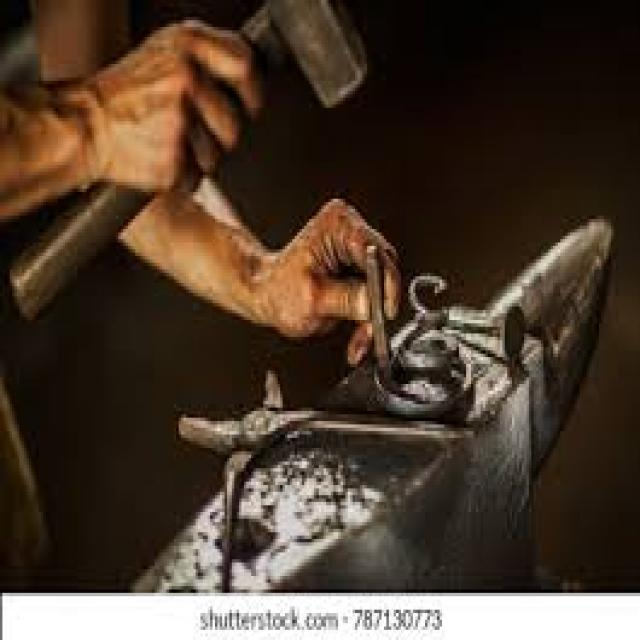hammer: (3, 0, 375, 333)
